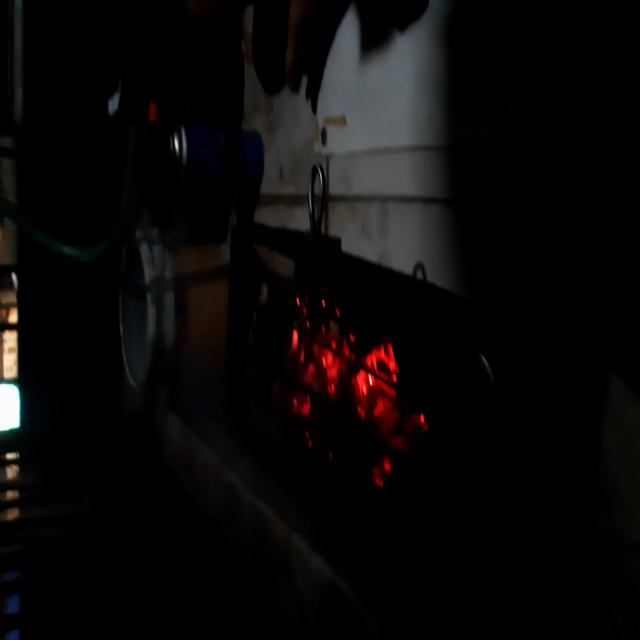Fire: (282, 283, 433, 498)
